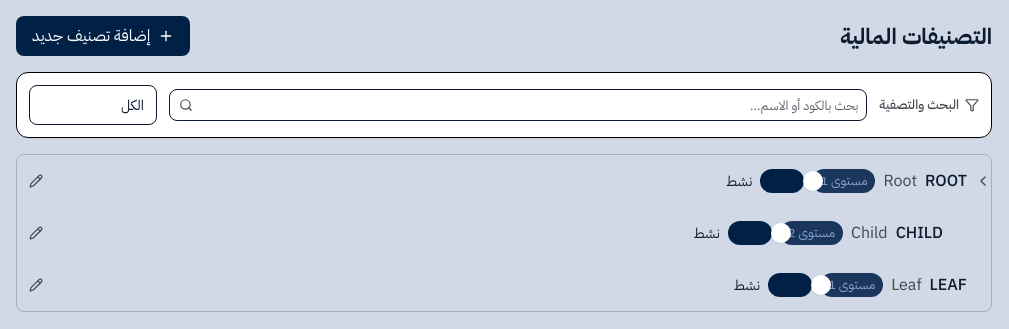
Test: ClassificationsListPage › T006: Search › shows no matches when search has no results
Step 1. Type "NONEXISTENT" into the search field with placeholder "بحث بالكود أو الاسم..." → (518, 105), box x1=169 y1=89 x2=867 y2=121
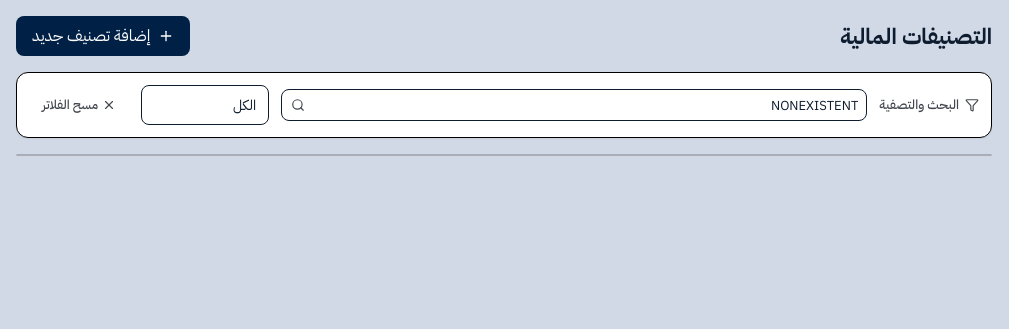
Expected: the text "ROOT" is gone
